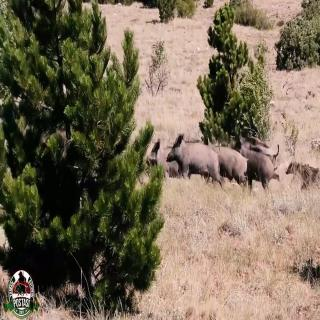Pig: (166, 116, 217, 212)
